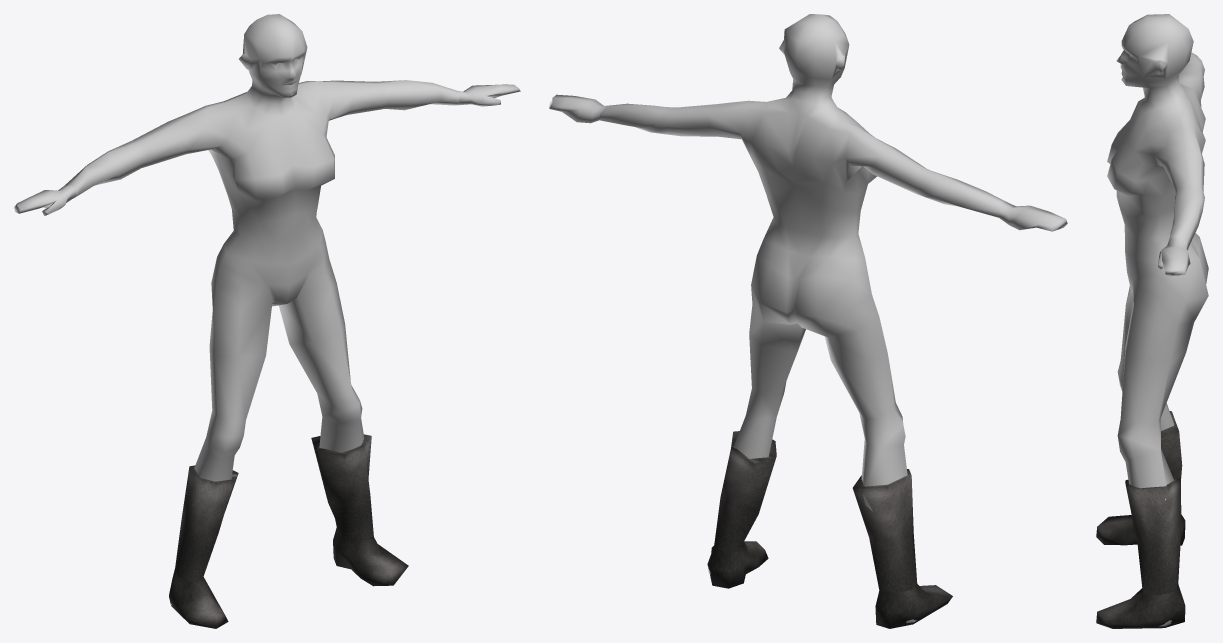
Rendered from Armor_Female_duster_boots.obj.
3 views of the same model, side by side, from view 1: azimuth 30°, elevation 25°; view 2: azimuth 150°, elevation 25°; view 3: azimuth 270°, elevation 25° (orthographic). The views are drawn at different scales.
Visible parts, largest first — view 1: Female_body, Armor_Female_duster_lboot, Armor_Female_duster_rboot; view 2: Female_body, Armor_Female_duster_rboot, Armor_Female_duster_lboot; view 3: Female_body, Armor_Female_duster_lboot, Armor_Female_duster_rboot.
Boxes of the visible parts, x1,y1,x2,y2 form: Female_body: (14,14,520,605); Armor_Female_duster_lboot: (311,434,408,586); Armor_Female_duster_rboot: (169,465,238,628); Female_body: (549,14,1067,623); Armor_Female_duster_rboot: (852,469,952,628); Armor_Female_duster_lboot: (707,431,776,588); Female_body: (1107,14,1208,626); Armor_Female_duster_lboot: (1096,478,1185,628); Armor_Female_duster_rboot: (1096,411,1185,545).
Size of the model in its own units: 88.8 by 95.7 by 17.35.
